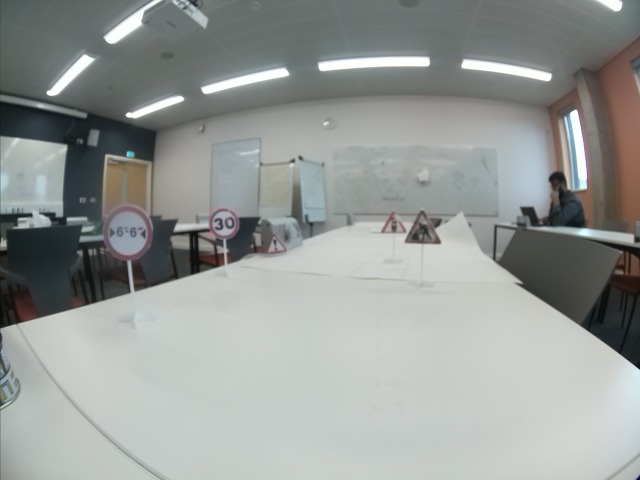30mph: (209, 208, 239, 239)
6ft6: (104, 204, 152, 262)
Roadworks: (404, 207, 442, 244)
Traffic lights: (381, 212, 406, 233)
Warning: (265, 235, 287, 254)
